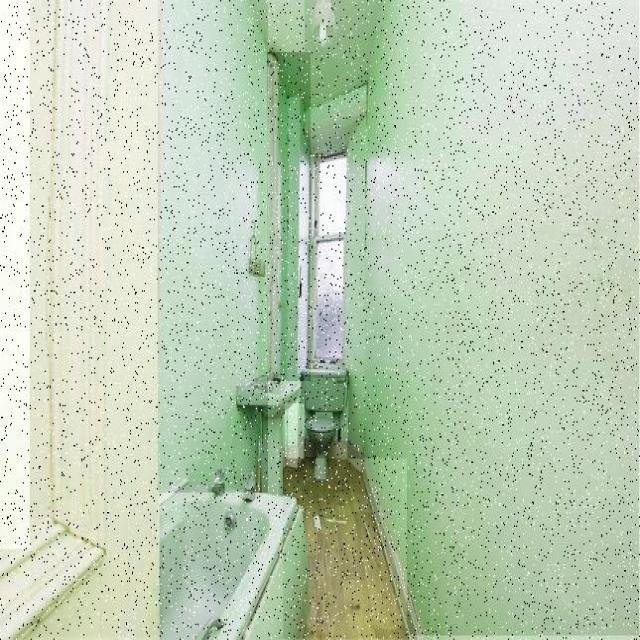Wall: (305, 0, 640, 636), (30, 0, 163, 637), (159, 0, 268, 493), (0, 0, 53, 549), (284, 459, 407, 639), (267, 53, 311, 381), (252, 0, 381, 107), (285, 405, 304, 463)
